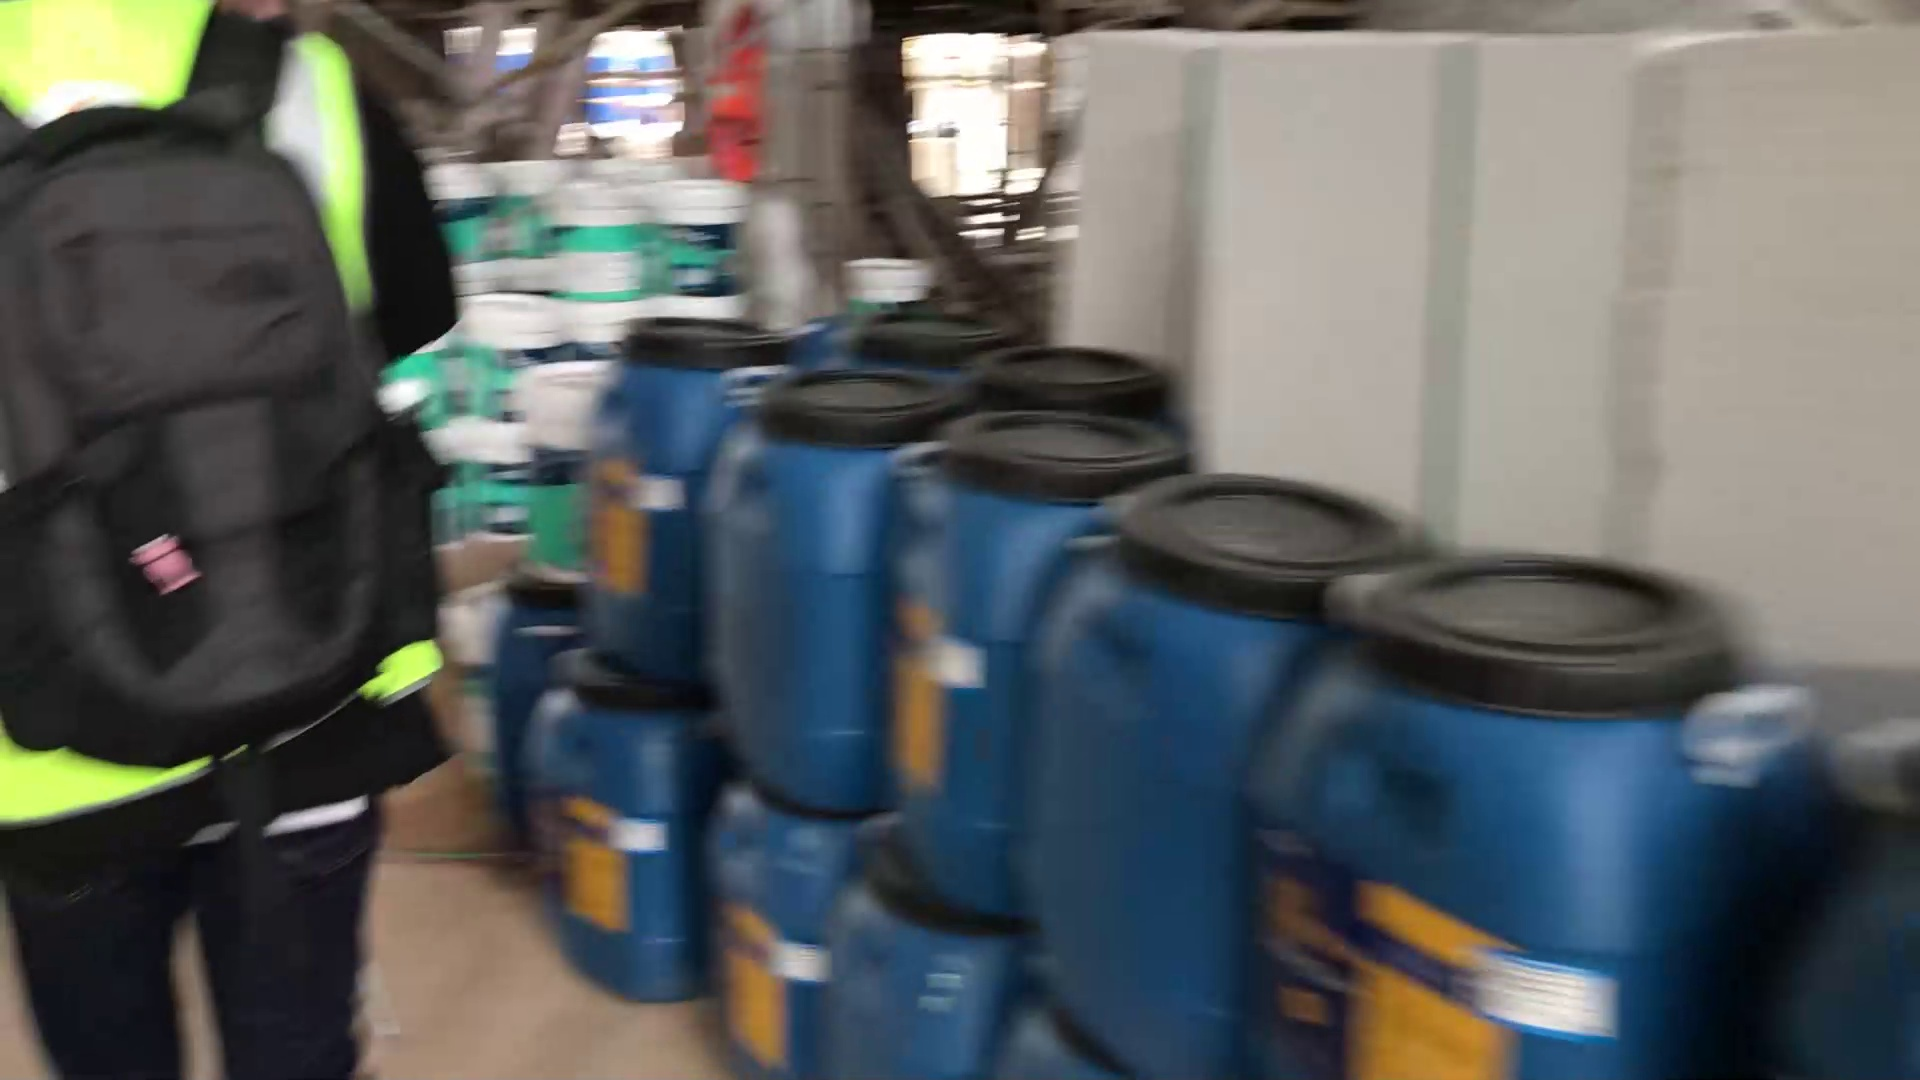person: (2, 1, 460, 1079)
vest: (1, 1, 449, 808)
